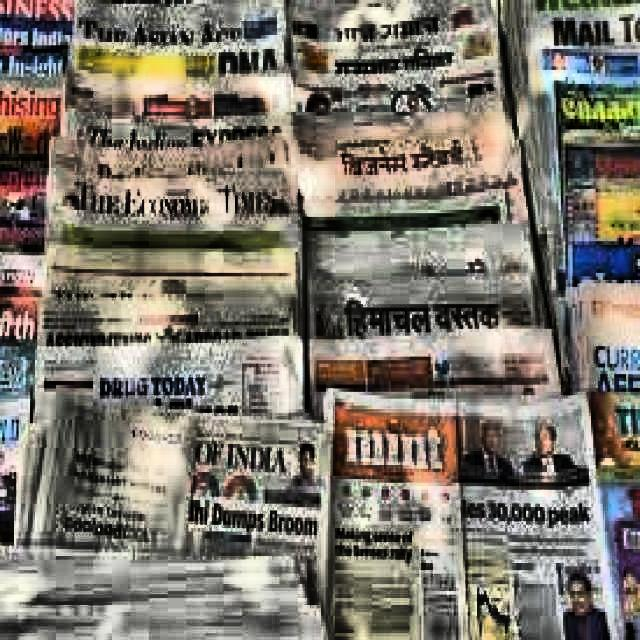Paper: (0, 0, 638, 637), (319, 381, 617, 637), (9, 392, 321, 609), (291, 109, 528, 291), (0, 539, 319, 637), (305, 322, 558, 441), (33, 332, 303, 427), (305, 249, 547, 354), (498, 0, 637, 178), (42, 199, 298, 287), (533, 0, 637, 199), (44, 158, 293, 235), (65, 0, 284, 87), (303, 182, 503, 276), (46, 133, 284, 206), (42, 241, 295, 308), (63, 70, 288, 140), (291, 52, 503, 126), (37, 290, 293, 343), (286, 0, 498, 63), (61, 105, 286, 161), (0, 73, 63, 252), (563, 228, 638, 375), (561, 126, 638, 259), (549, 73, 638, 182), (74, 35, 284, 77), (591, 462, 638, 637), (573, 276, 638, 392), (0, 248, 37, 395), (584, 385, 638, 483), (0, 0, 70, 73), (0, 388, 33, 542)
